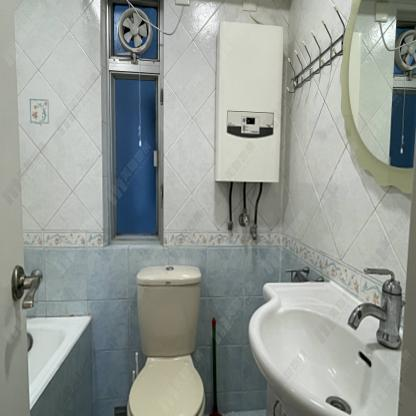Bathtub: (27, 315, 94, 416)
Exhaust Fan: (118, 6, 153, 53)
Toilet: (128, 266, 207, 416)
Toilet Sink: (246, 279, 404, 416)
Water Heater: (215, 22, 282, 184)
